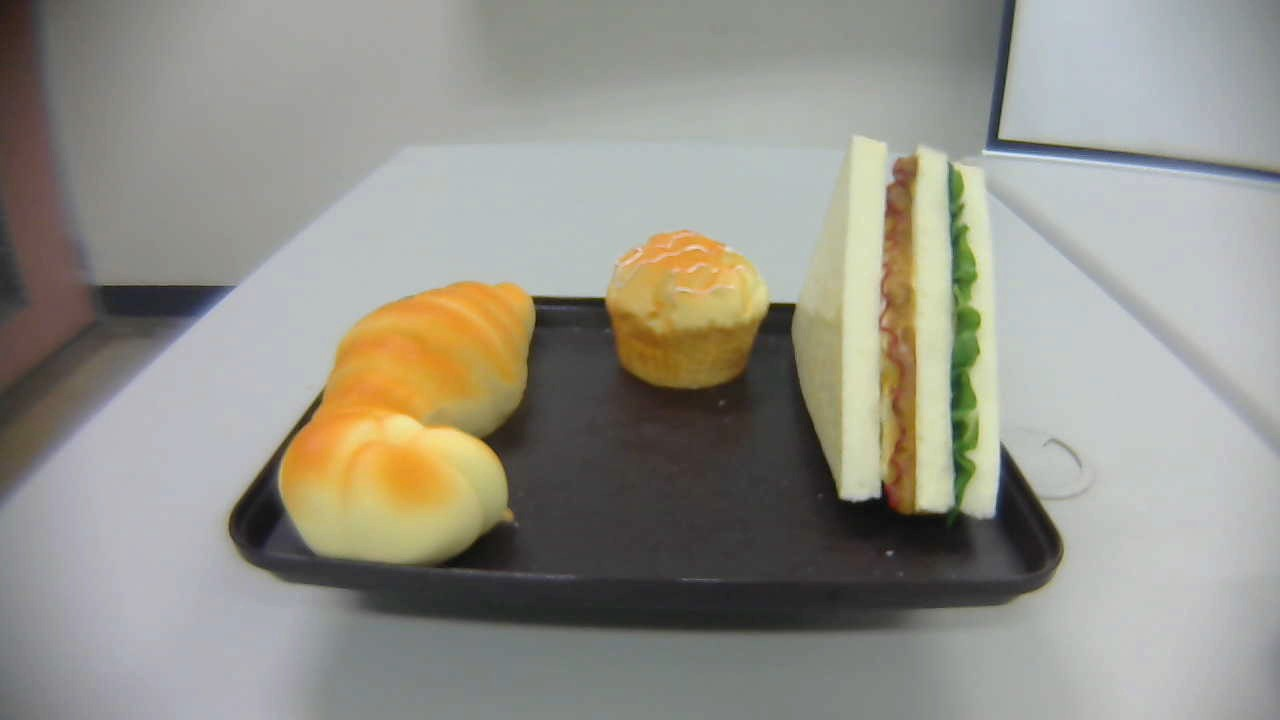croissant: (315, 280, 537, 451)
cupcake: (605, 230, 769, 389)
sandwich: (792, 132, 1001, 522)
twist bread: (277, 408, 518, 570)
